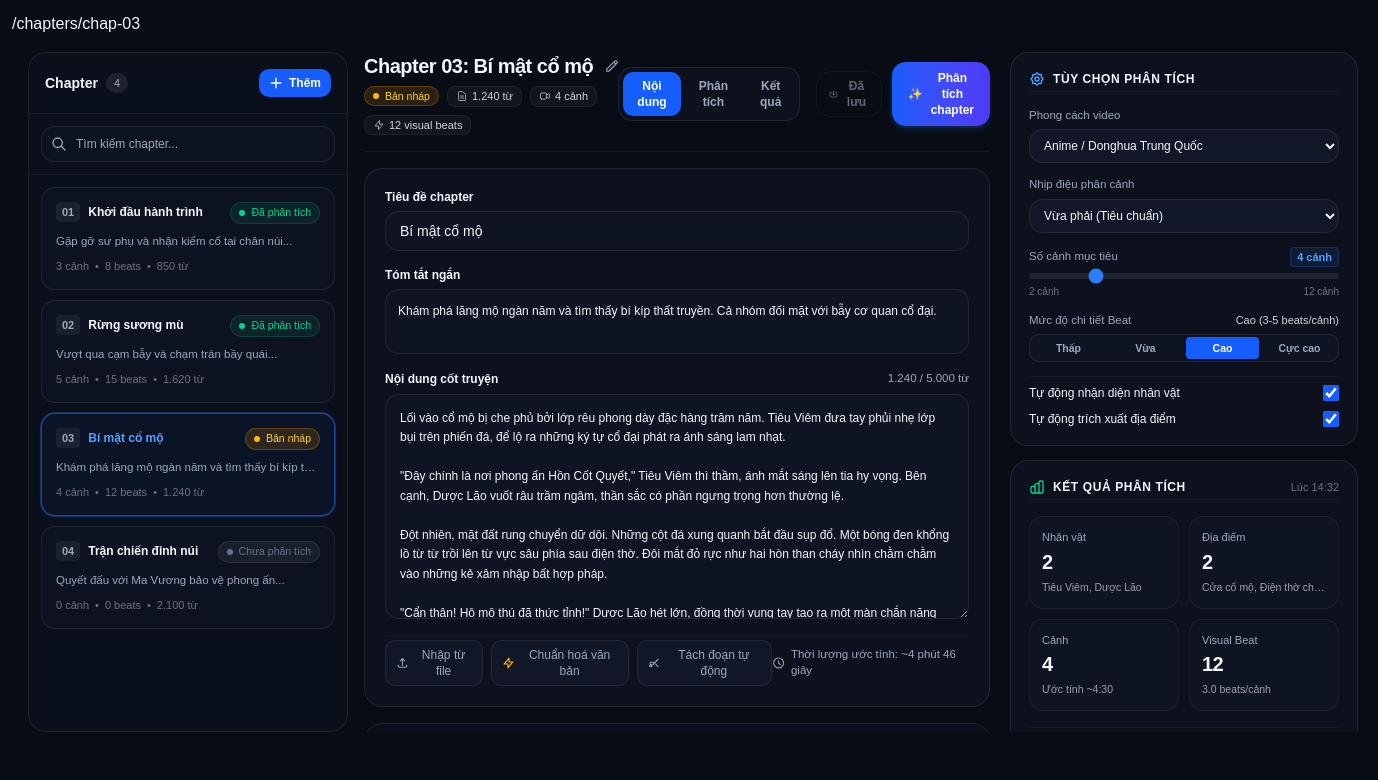
Scenario: ChapterPage › adds a new chapter and navigates to new chapter URL when clicking Thêm button
Click the button "Thêm". click: (295, 83)
box: [259,69,331,97]
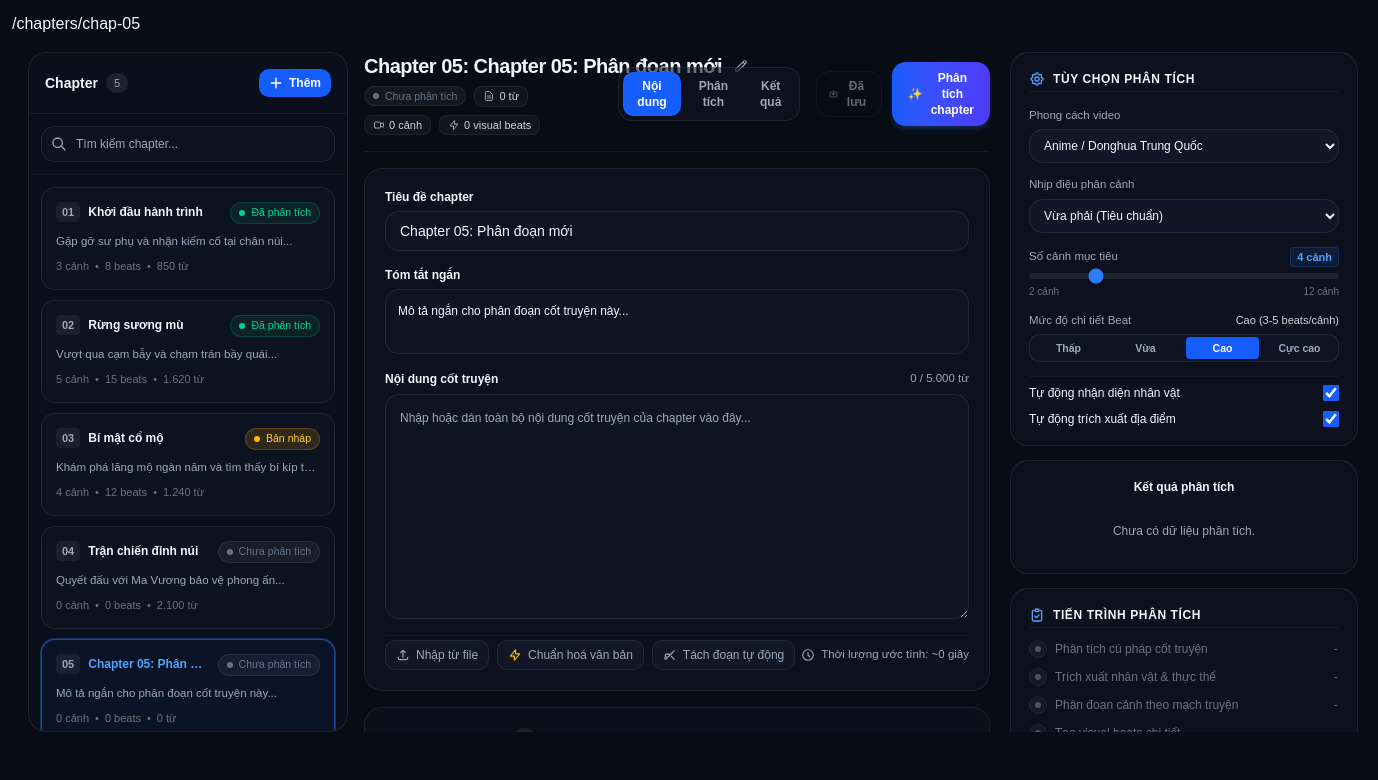
Check: the text with test id "location-display" reads "/chapters/chap-05", box [12,15,140,32]
Check: the heading "Chapter 05: Chapter 05: Phân đoạn mới" is shown, box [364,52,722,80]
